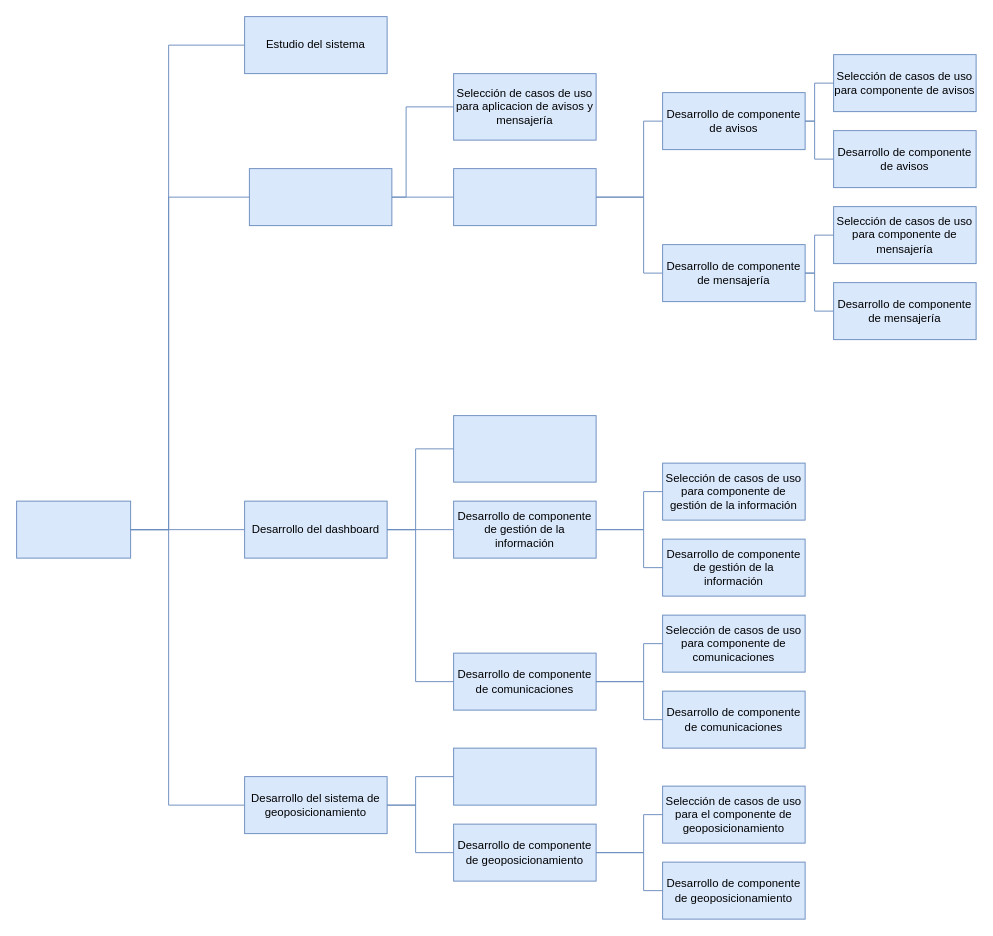
This 993x936 diagram has some shape labels left out. The shapes that lost their labels are listed below. From the top down, each one's centre as x and y in pixels, then its label:
At pixel 320 197: "Desarrollo de aplicación de avisos y mensajería".
At pixel 524 197: "Desarrollo de aplicación de avisos y mensajería con Flutter".
At pixel 524 448: "Selección de casos de uso para dashboard".
At pixel 73 529: "Sistema de Teleasistencia Sanitaria".
At pixel 524 776: "Seleccion de casos de uso para el sistema de vehiculos".
